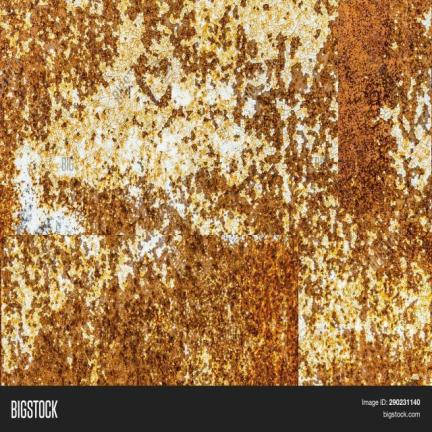karat: (336, 0, 408, 221)
